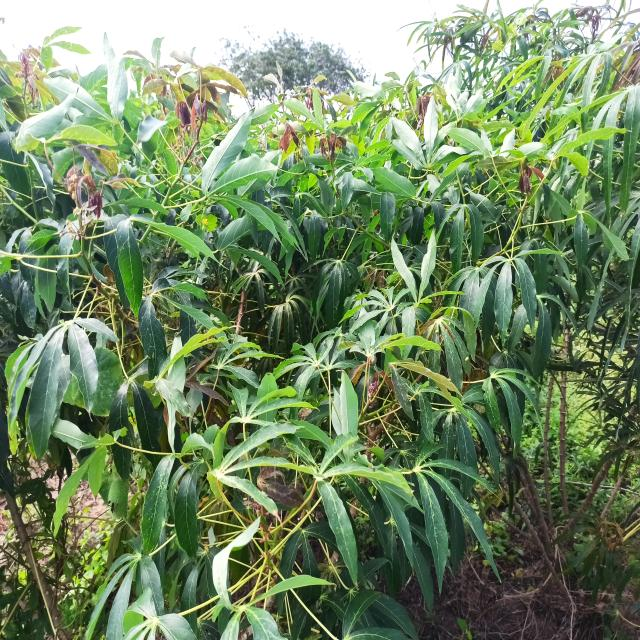Mosca: (463, 349, 476, 365), (377, 519, 395, 530), (69, 406, 87, 416), (225, 395, 240, 406)
